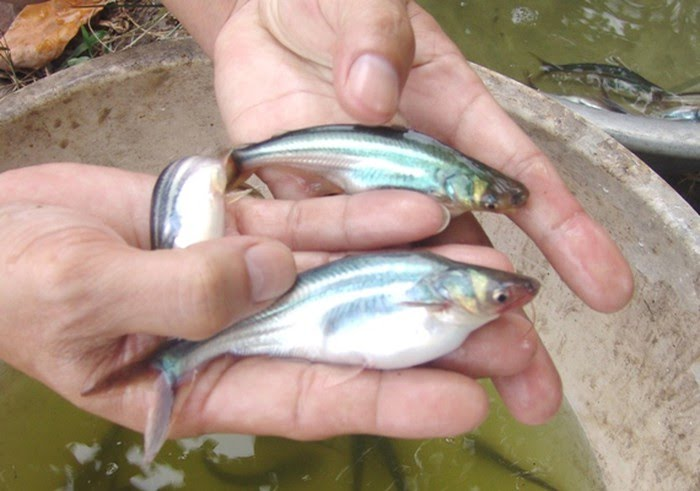fish: (239, 131, 521, 211), (272, 263, 541, 345), (146, 147, 225, 256)
